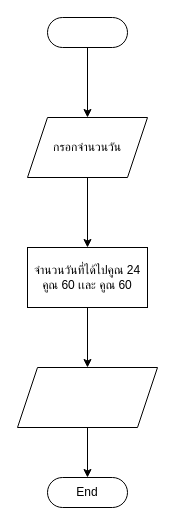
This 175x525 diagram has some shape labels left out. Each missing label, with the centre of its shape:
"Start" belongs at point (87, 32).
"แสดงผลลัพธ์ออกมา" belongs at point (87, 397).
